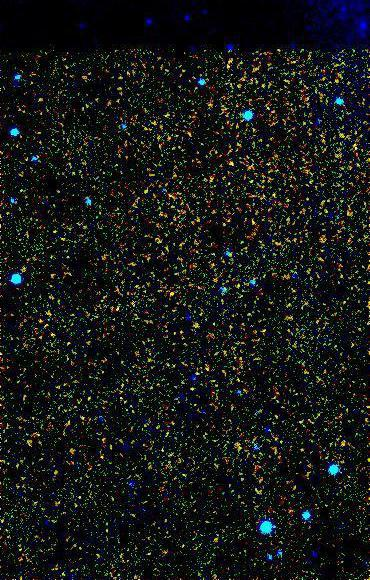star: (156, 278, 186, 308)
